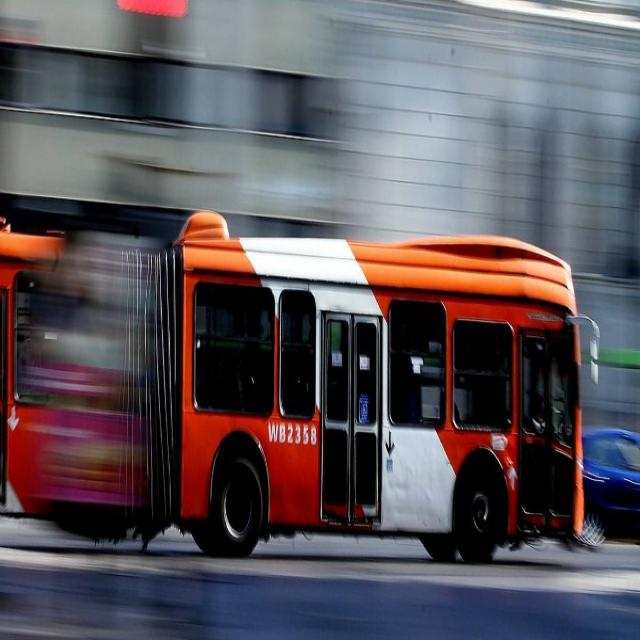AB: (3, 200, 606, 570)
